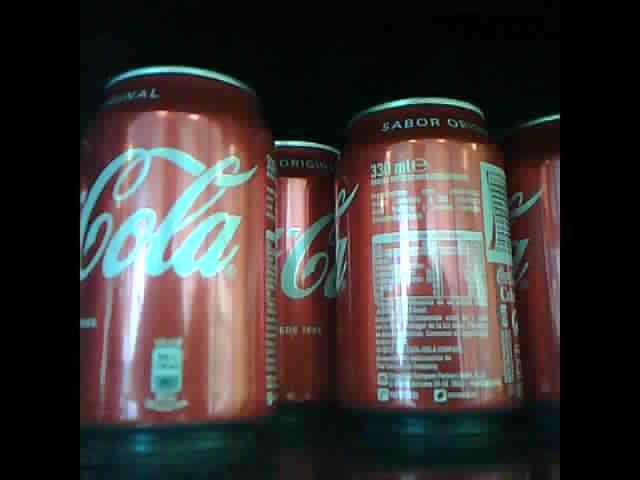coca cola: (81, 64, 277, 433), (335, 95, 523, 418), (272, 134, 338, 416), (502, 109, 559, 417)
